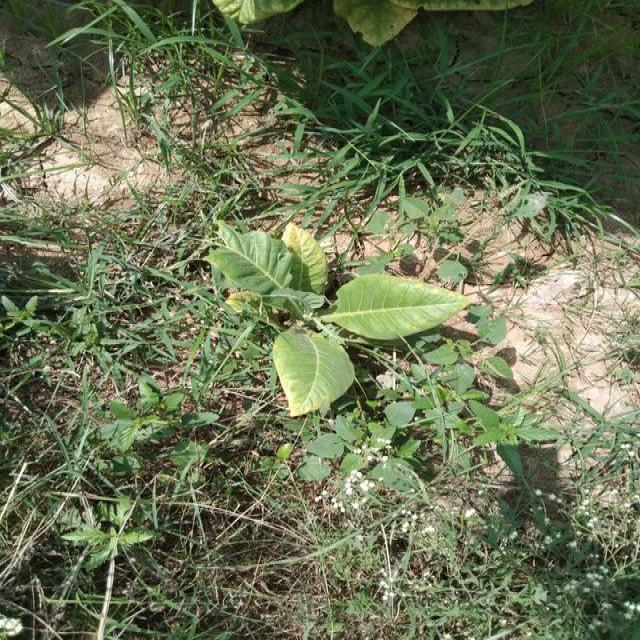crop: (219, 241, 455, 409)
